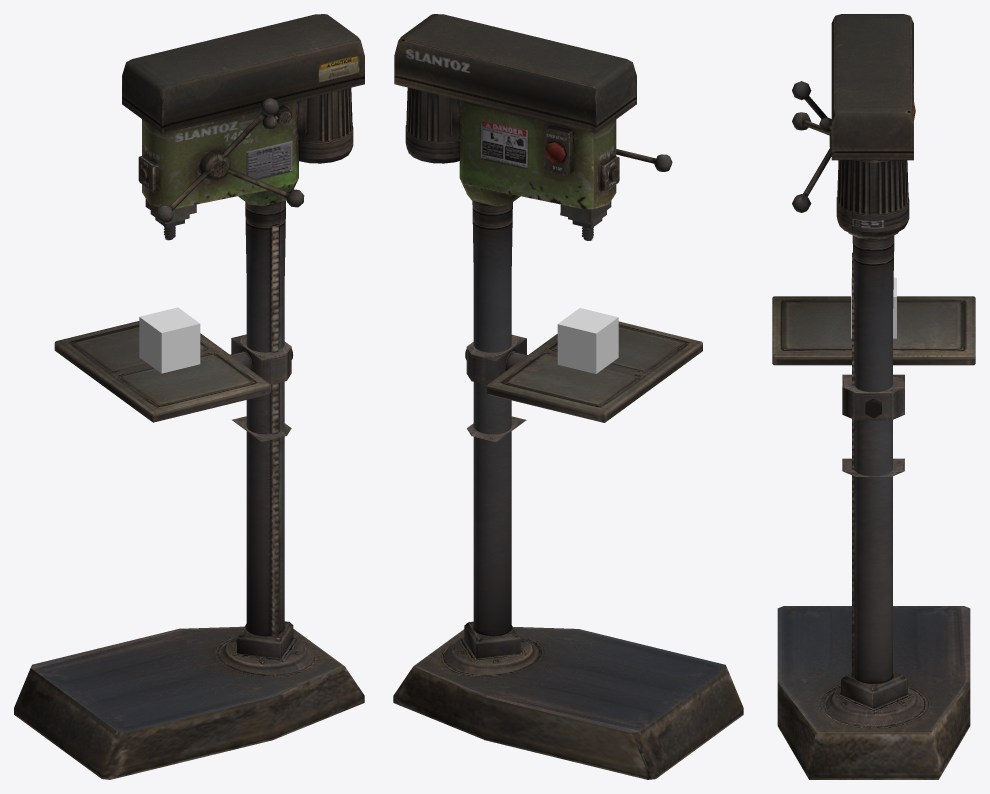
3 views of the same model, side by side, from view 1: azimuth 30°, elevation 25°; view 2: azimuth 150°, elevation 25°; view 3: azimuth 270°, elevation 25° (orthographic). The views are drawn at different scales.
Parts seen in each view (by area): view 1: KNOBREG, Cube.006, spindle; view 2: KNOBREG, Cube.006; view 3: KNOBREG, spindle.
Part boxes in pixels (bbox=[...]): KNOBREG: bbox=[14, 14, 364, 779]; Cube.006: bbox=[139, 307, 200, 373]; spindle: bbox=[155, 98, 304, 222]; KNOBREG: bbox=[393, 14, 743, 779]; Cube.006: bbox=[557, 308, 618, 373]; KNOBREG: bbox=[772, 14, 975, 779]; spindle: bbox=[792, 81, 831, 212].
Bounding box in the file's own units: 0.5456 × 1.18 × 0.3219.
2 materials, 2 textured.
